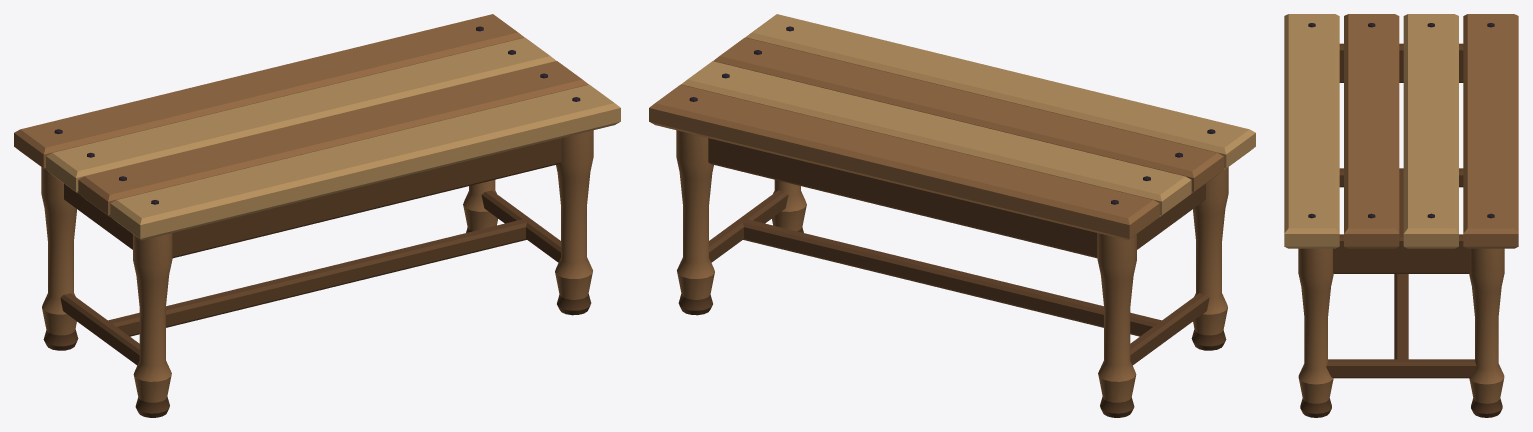
Rendered from Table_01.glb.
The picture shows the model from 3 angles, left to right: view 1: azimuth 30°, elevation 25°; view 2: azimuth 150°, elevation 25°; view 3: azimuth 270°, elevation 25°; orthographic projection. The views are drawn at different scales.
Visible parts, largest first — view 1: Table_01; view 2: Table_01; view 3: Table_01.
Boxes of the visible parts, bbox=[...] form: Table_01: bbox=[14, 14, 620, 417]; Table_01: bbox=[649, 14, 1255, 417]; Table_01: bbox=[1284, 14, 1518, 417].
Bounding box in the file's own units: 7.26 × 3.07 × 3.3.
